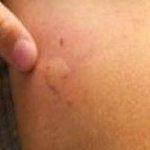Mosquito: (37, 52, 72, 88)
